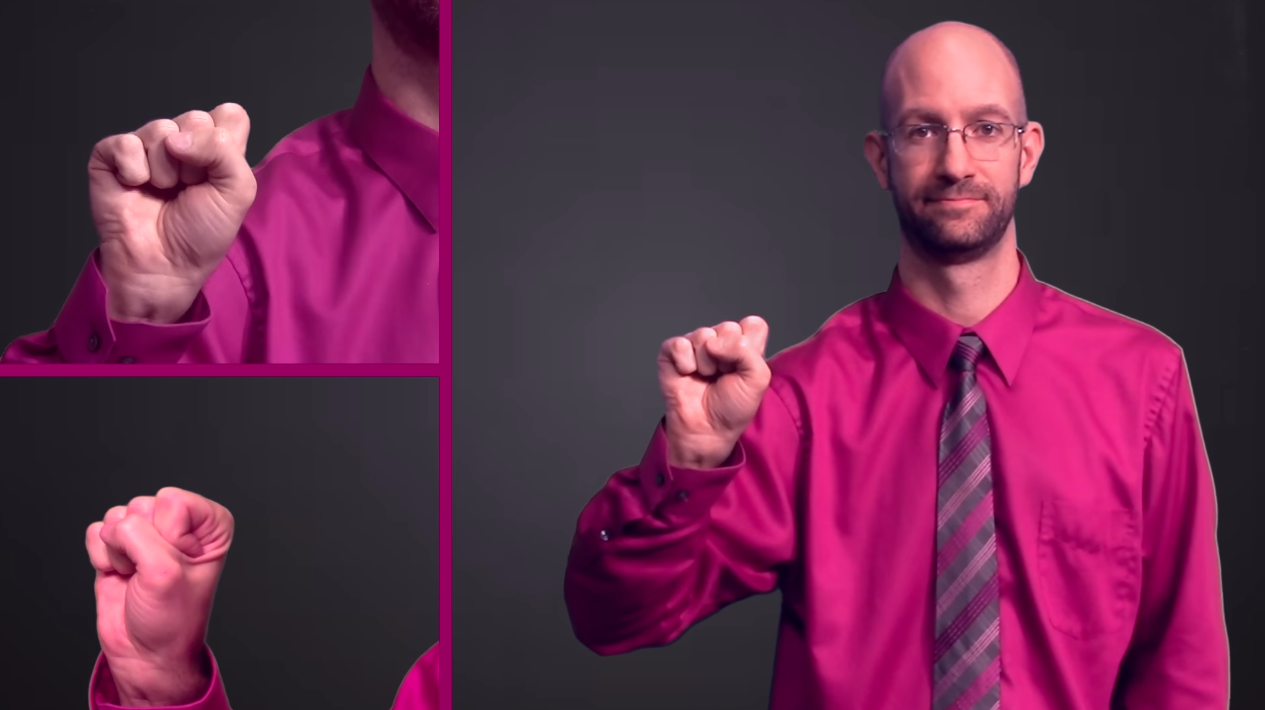s: (72, 88, 270, 312), (74, 479, 253, 701), (645, 299, 791, 461)
